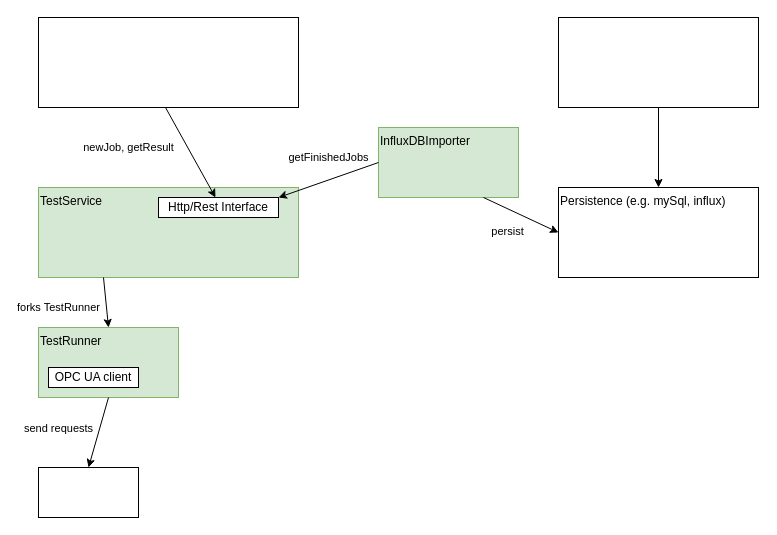
Some shapes in this 777 by 535 pixel diagram are drawn without their labels. The centre of each missing label's shape, as x and y in pixels:
CI/CD Server (e.g. jenkins): the point at 168,62
OPC UA Server / Device under test: the point at 88,492
Visualization (e.g. grafana): the point at 658,62
